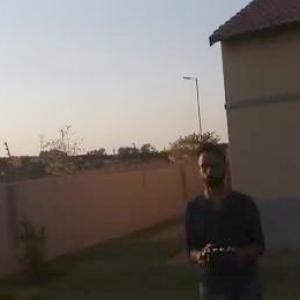follow: (181, 136, 277, 299)
